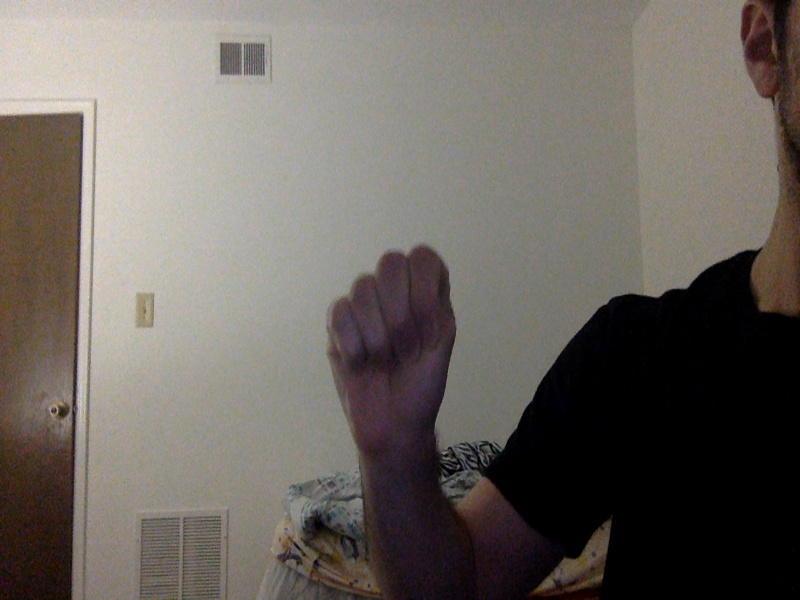0-hand: (325, 245, 460, 461)
